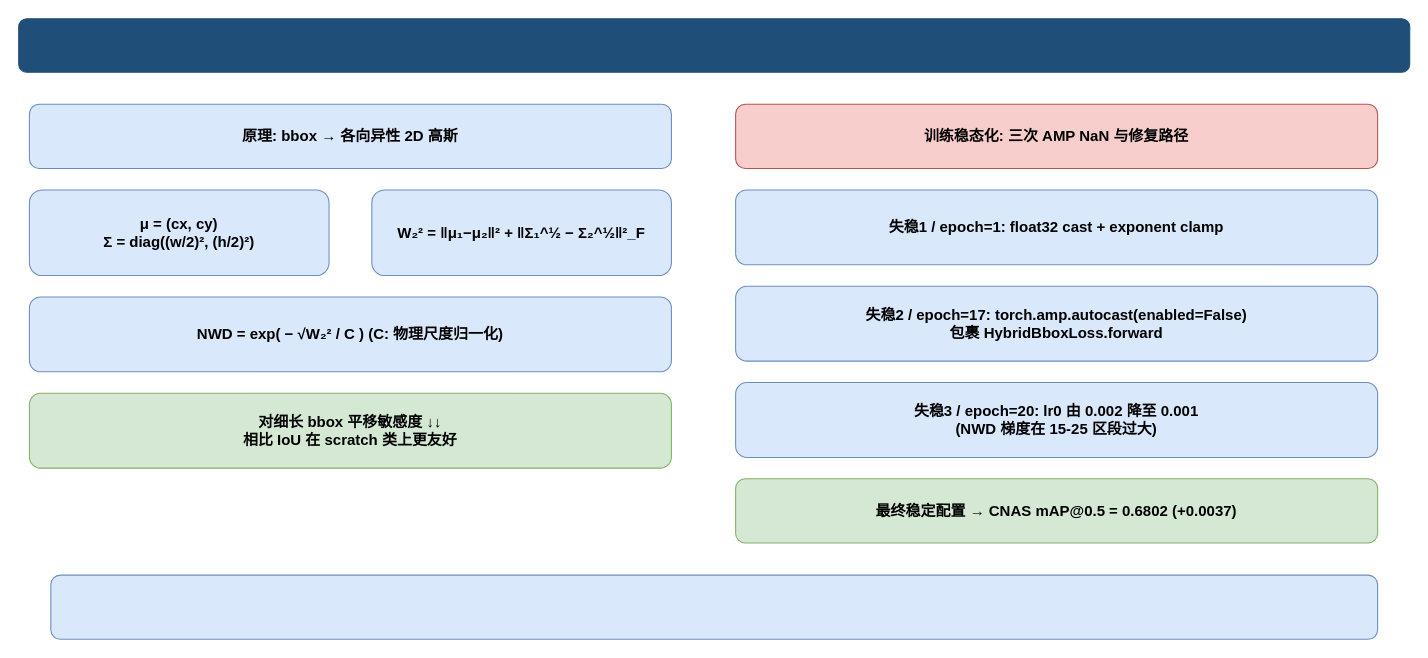
Some shapes in this 1428 by 658 pixel diagram are drawn without their labels. The centre of each missing label's shape, as x and y in pixels:
"NWD 检测头改造原理与训练稳态化" belongs at (714,45).
"Phase 3B 总结: NWD-only 唯一稳定增益; SFE / SFE+NWD / SSGD 均退化或崩溃" belongs at (714,606).
